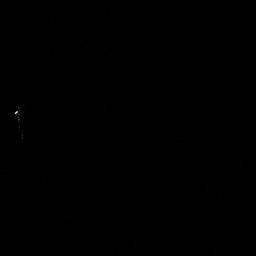ship: (13, 101, 27, 141)
